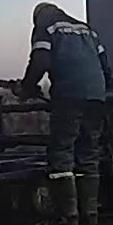helmet: (30, 2, 59, 26)
vest: (29, 18, 110, 107)
